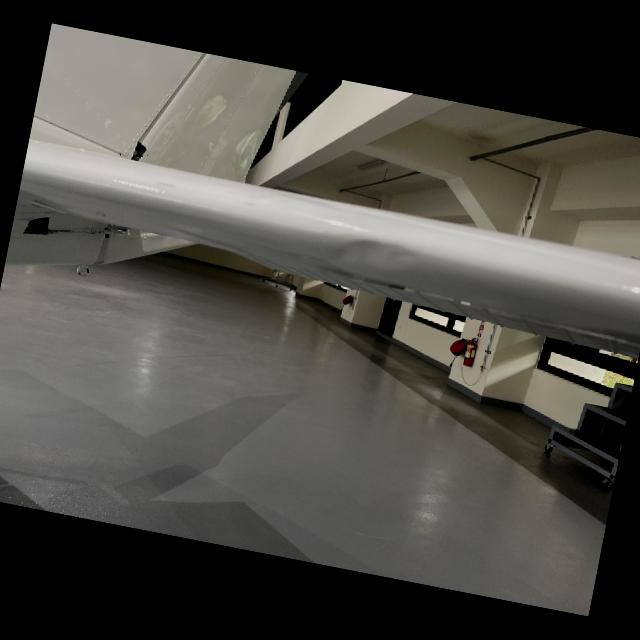dent: (310, 222, 440, 287)
